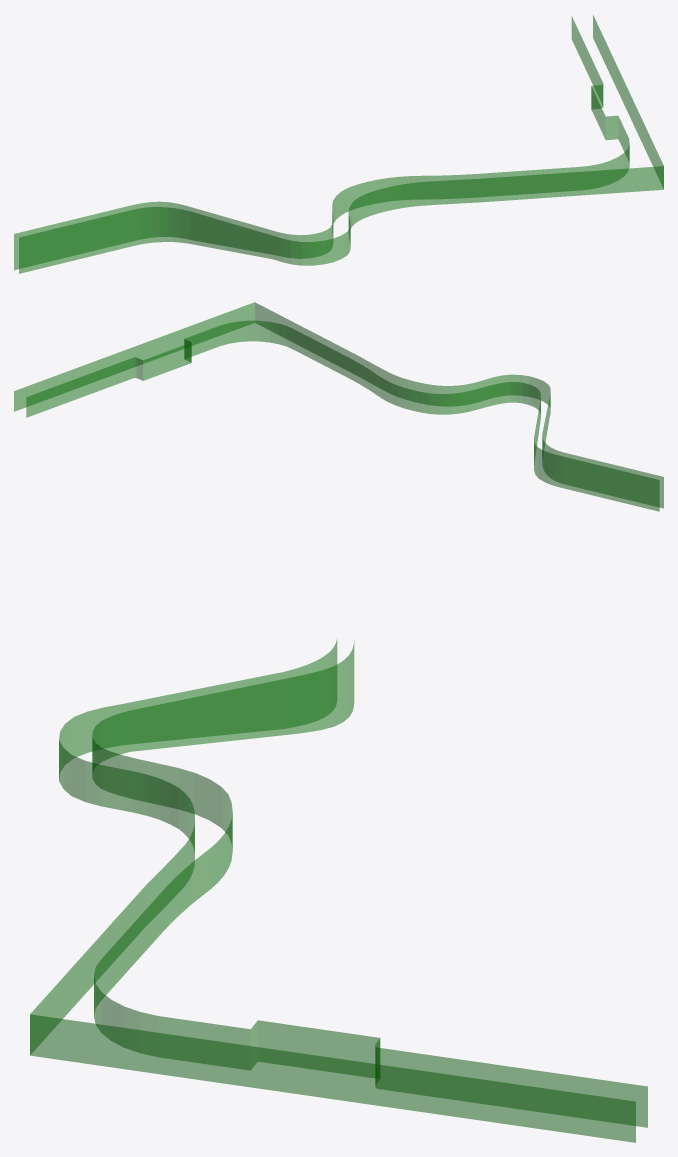
File: myk_Act2_C_01.polymsh3431.obj
3 renders of one model, top to bottom at view 1: azimuth 30°, elevation 25°; view 2: azimuth 150°, elevation 25°; view 3: azimuth 270°, elevation 25°, orthographic. The views are drawn at different scales.
Bounding box in the file's own units: 749 × 39.48 × 348.
